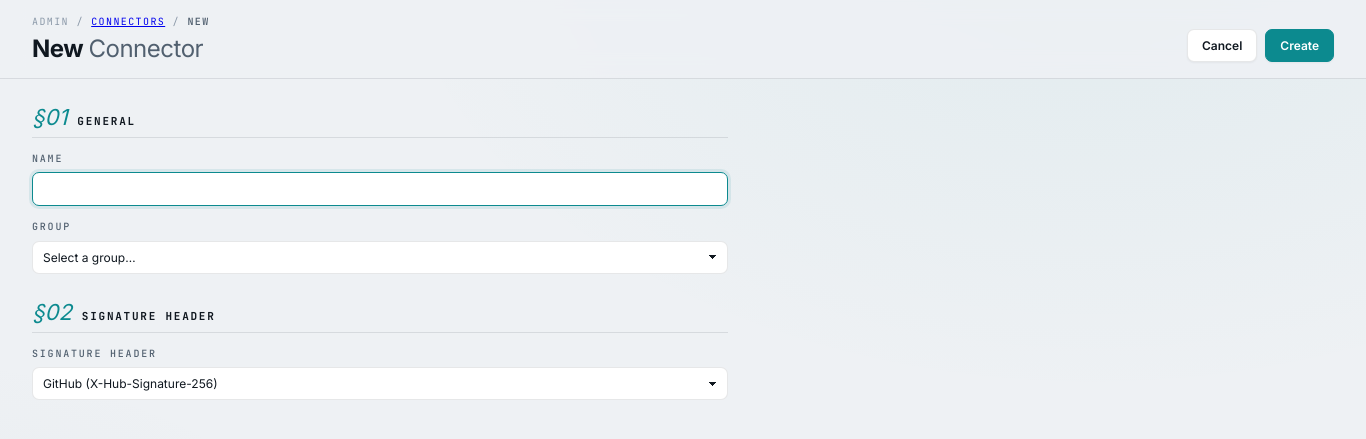
ConnectorForm › shows validation error when name is empty
Click the button "Create" at (1300, 45), box [1265, 29, 1334, 62]
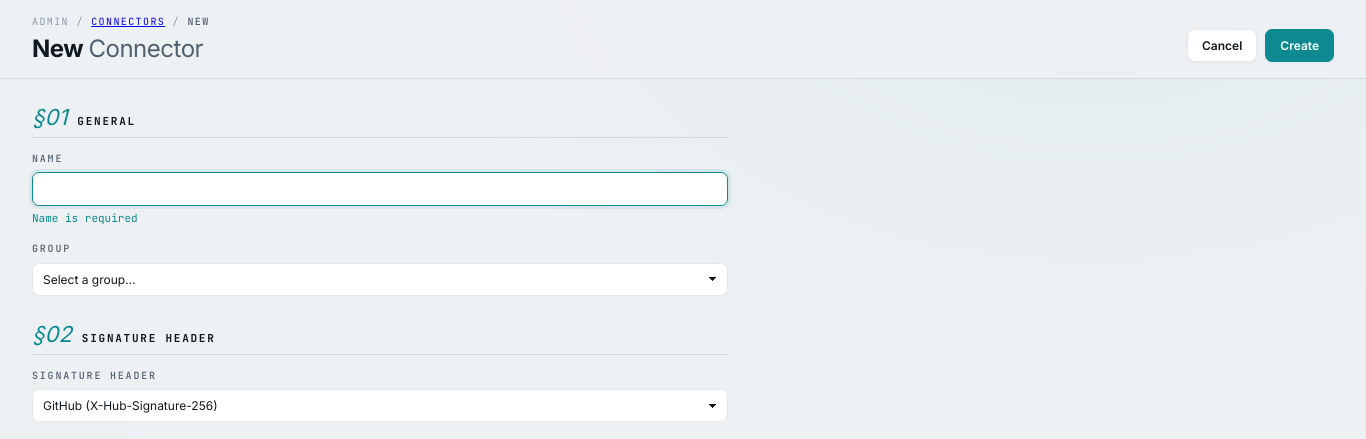
Now the text "Name is required" is shown, box [32, 212, 138, 226]
